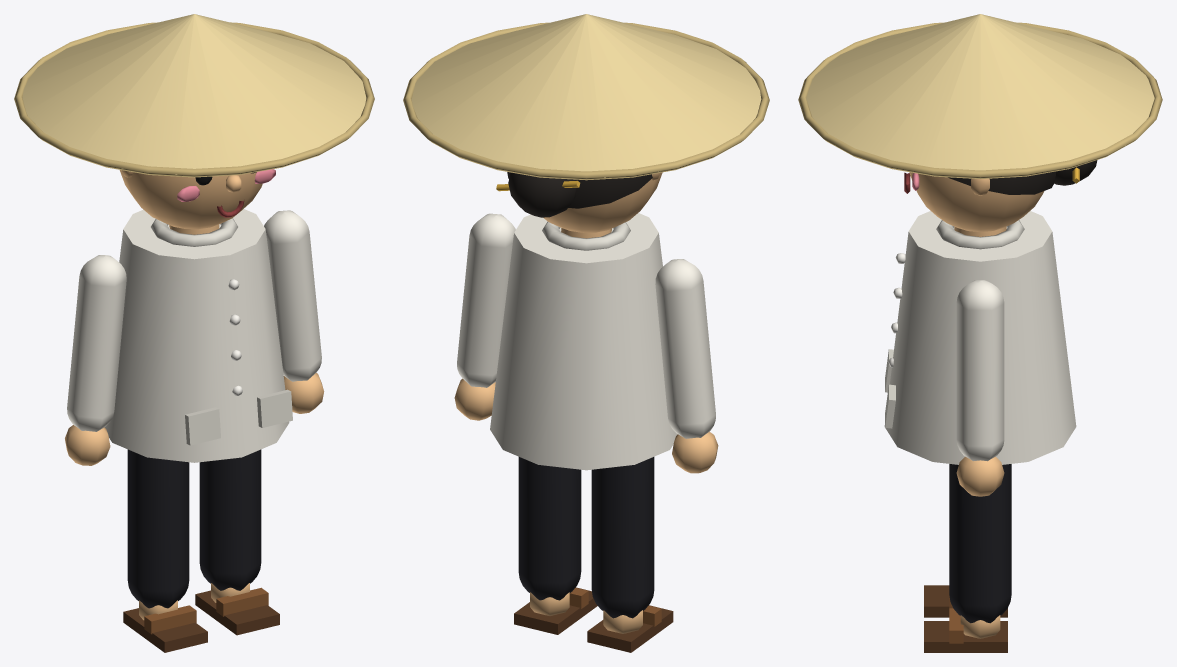
Rendered from nguoi_nu.glb.
The picture shows the model from 3 angles, left to right: view 1: azimuth 30°, elevation 25°; view 2: azimuth 150°, elevation 25°; view 3: azimuth 270°, elevation 25°; orthographic projection.
Visible parts, largest first — view 1: Head, Body, LegL, LegR, ArmL, ArmR; view 2: Head, Body, LegL, LegR, ArmL, ArmR; view 3: Head, Body, LegR, ArmR, LegL.
Part boxes in pixels (<box>): Head: <box>14,14,374,229</box>; Body: <box>105,209,292,462</box>; LegL: <box>123,449,207,652</box>; LegR: <box>195,449,279,635</box>; ArmL: <box>65,255,126,465</box>; ArmR: <box>264,210,324,413</box>; Head: <box>403,14,769,232</box>; Body: <box>490,213,677,470</box>; LegL: <box>587,457,673,652</box>; LegR: <box>514,457,597,634</box>; ArmL: <box>655,259,718,473</box>; ArmR: <box>454,213,515,420</box>; Head: <box>798,14,1162,231</box>; Body: <box>884,211,1076,464</box>; LegR: <box>924,464,1011,652</box>; ArmR: <box>956,280,1004,496</box>; LegL: <box>924,585,1007,617</box>.
Size of the model in its own units: 0.304 by 0.562 by 0.304.
